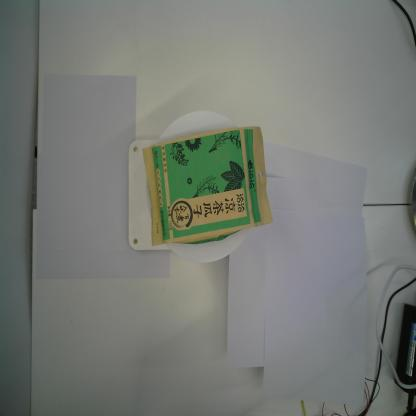Dried Food: (140, 124, 274, 250)
